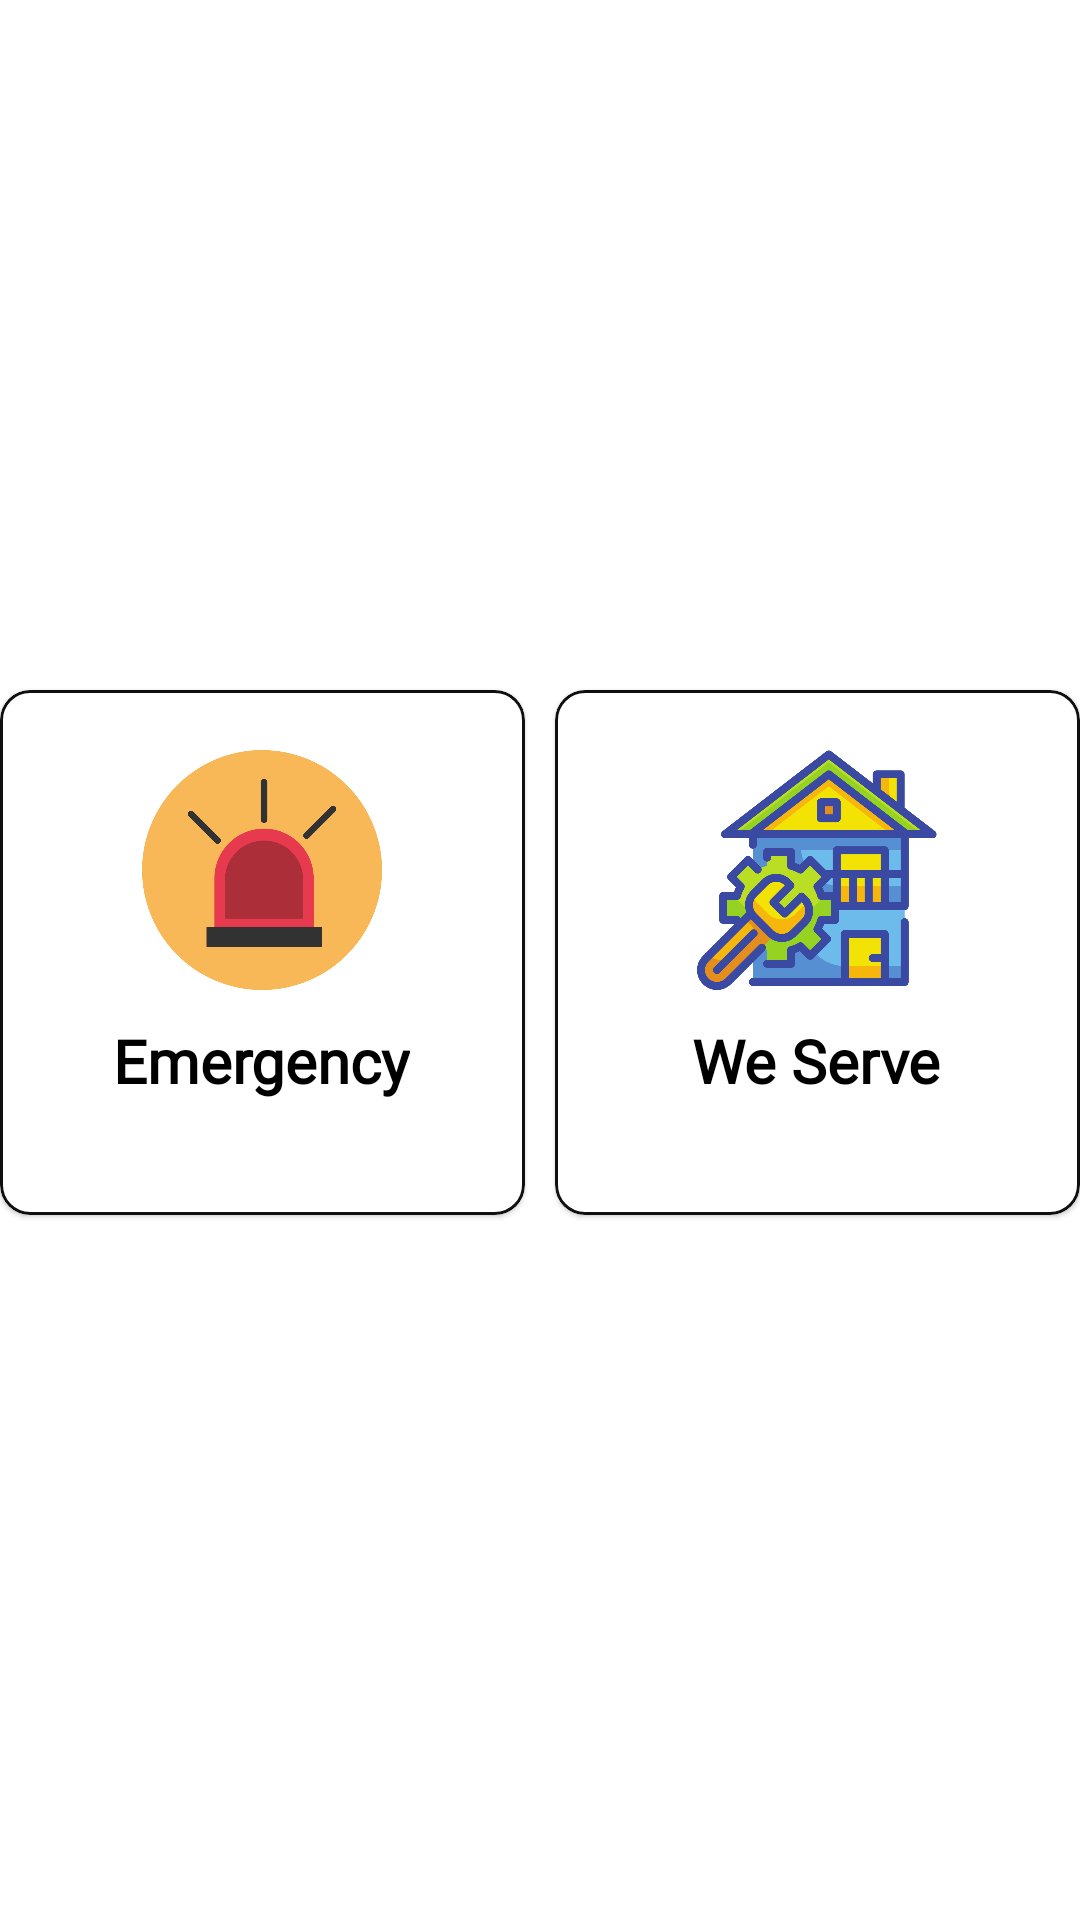

Screen size 1080px×1920px. Icon name, then its box in pixels as (x1, y1, x2, y2):
home services: (697, 750, 937, 990)
